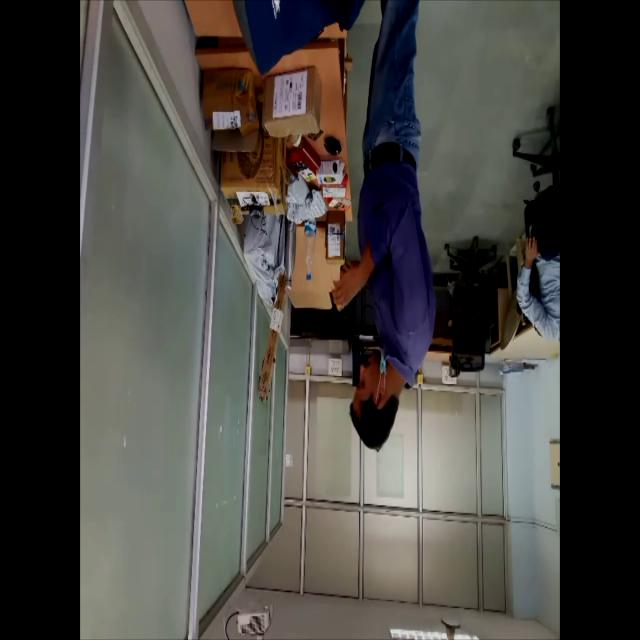normal: (328, 0, 439, 461)
